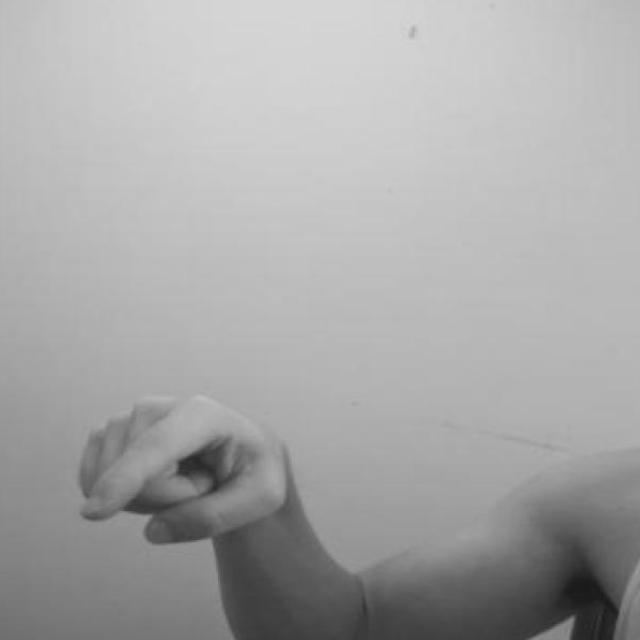Z: (60, 348, 316, 576)
